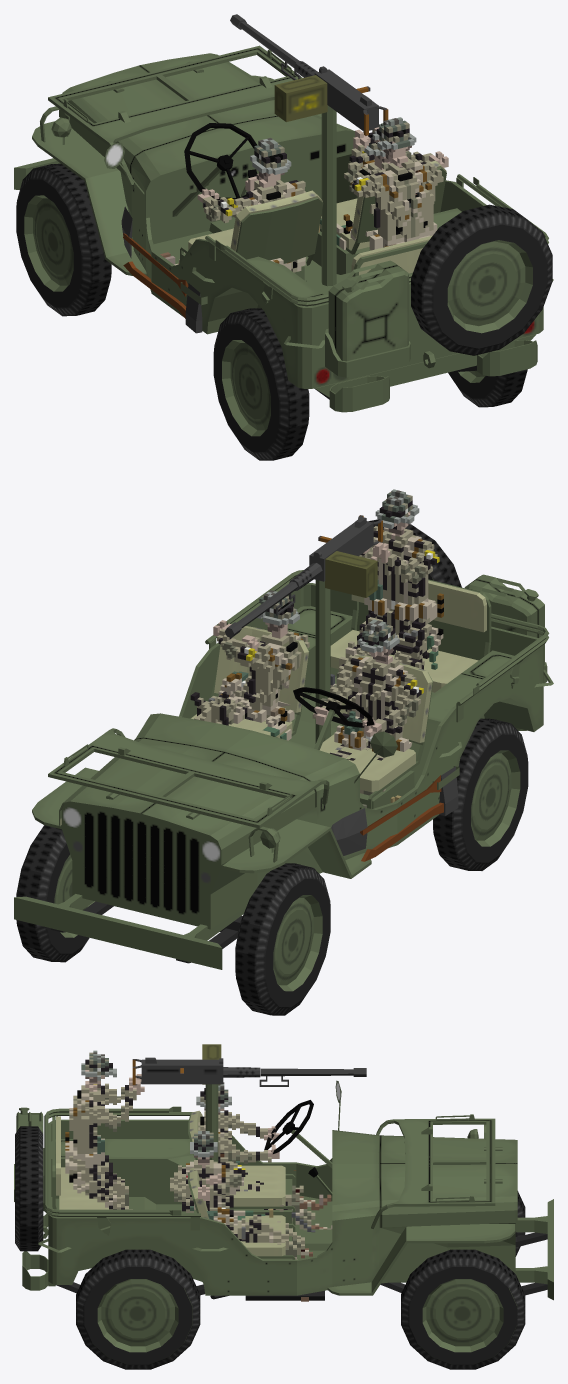
The model's file is willys_mb.glb.
3 renders of one model, top to bottom at view 1: azimuth 30°, elevation 25°; view 2: azimuth 150°, elevation 25°; view 3: azimuth 270°, elevation 25°, orthographic. The views are drawn at different scales.
Parts seen in each view (by area): view 1: 00_chassis_willys_mb_chassis.mesh, 02_tire_index_0_willys_mb_wheel.mesh, 04_tire_index_2_willys_mb_wheel.mesh, crew_soldier_SLOT_01_GUNNER, weapon_turret_0_willys_mb_mg.mesh, crew_soldier_SLOT_00_DRIVER, 05_tire_index_3_willys_mb_wheel.mesh, crew_soldier_SLOT_02_PASSENGER; view 2: 00_chassis_willys_mb_chassis.mesh, 02_tire_index_0_willys_mb_wheel.mesh, 04_tire_index_2_willys_mb_wheel.mesh, crew_soldier_SLOT_01_GUNNER, crew_soldier_SLOT_02_PASSENGER, crew_soldier_SLOT_00_DRIVER, 03_tire_index_1_willys_mb_wheel.mesh, weapon_turret_0_willys_mb_mg.mesh; view 3: 00_chassis_willys_mb_chassis.mesh, 03_tire_index_1_willys_mb_wheel.mesh, 05_tire_index_3_willys_mb_wheel.mesh, crew_soldier_SLOT_01_GUNNER, crew_soldier_SLOT_02_PASSENGER, weapon_turret_0_willys_mb_mg.mesh, crew_soldier_SLOT_00_DRIVER.
Boxes of the visible parts, x1,y1,x2,y2 form: 00_chassis_willys_mb_chassis.mesh: [14, 45, 553, 412]; 02_tire_index_0_willys_mb_wheel.mesh: [16, 163, 111, 316]; 04_tire_index_2_willys_mb_wheel.mesh: [213, 308, 309, 460]; crew_soldier_SLOT_01_GUNNER: [344, 117, 443, 250]; weapon_turret_0_willys_mb_mg.mesh: [230, 14, 388, 135]; crew_soldier_SLOT_00_DRIVER: [160, 138, 306, 272]; 05_tire_index_3_willys_mb_wheel.mesh: [448, 369, 527, 407]; crew_soldier_SLOT_02_PASSENGER: [318, 124, 448, 249]; 00_chassis_willys_mb_chassis.mesh: [14, 519, 553, 969]; 02_tire_index_0_willys_mb_wheel.mesh: [235, 863, 330, 1015]; 04_tire_index_2_willys_mb_wheel.mesh: [433, 718, 528, 870]; crew_soldier_SLOT_01_GUNNER: [330, 489, 443, 687]; crew_soldier_SLOT_02_PASSENGER: [190, 590, 309, 740]; crew_soldier_SLOT_00_DRIVER: [312, 619, 423, 807]; 03_tire_index_1_willys_mb_wheel.mesh: [16, 825, 94, 962]; weapon_turret_0_willys_mb_mg.mesh: [224, 515, 382, 637]; 00_chassis_willys_mb_chassis.mesh: [14, 1080, 553, 1300]; 03_tire_index_1_willys_mb_wheel.mesh: [401, 1249, 525, 1369]; 05_tire_index_3_willys_mb_wheel.mesh: [76, 1249, 200, 1369]; crew_soldier_SLOT_01_GUNNER: [65, 1050, 144, 1209]; crew_soldier_SLOT_02_PASSENGER: [170, 1131, 312, 1301]; weapon_turret_0_willys_mb_mg.mesh: [132, 1044, 366, 1086]; crew_soldier_SLOT_00_DRIVER: [196, 1082, 332, 1232].
Bounding box in the file's own units: 2.1 × 2.33 × 4.26.
Materials: 37 (1 with a texture image).
